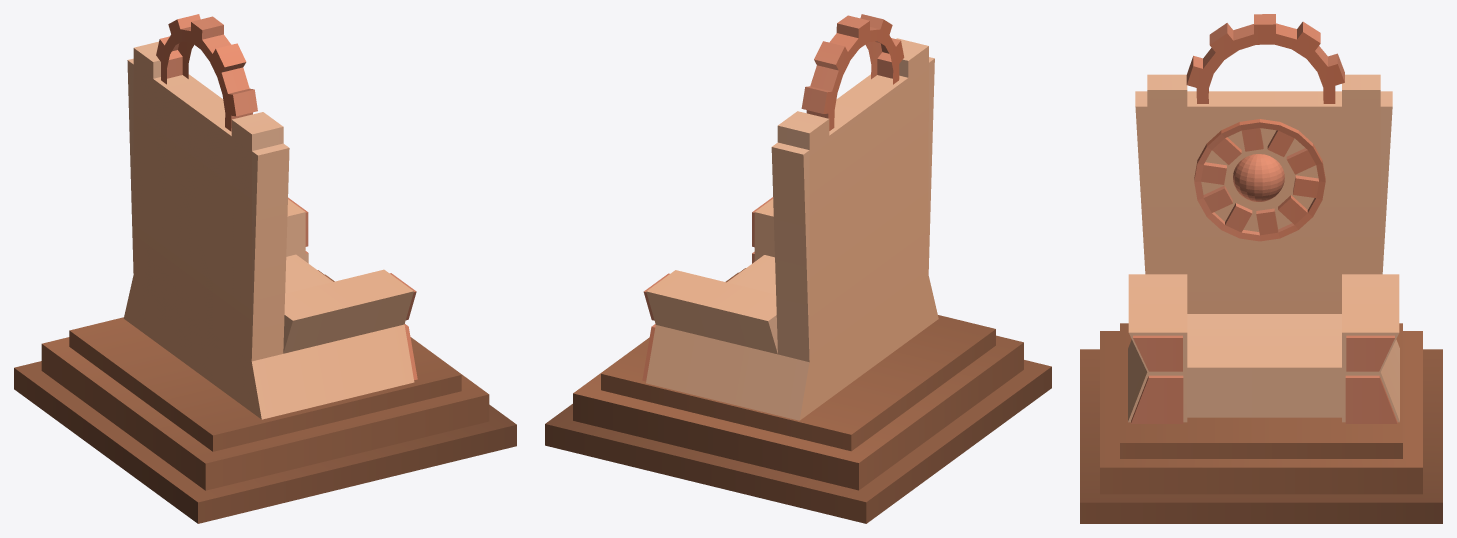
Rendered from Chair 02.fbx.
3 views of the same model, side by side, from view 1: azimuth 30°, elevation 25°; view 2: azimuth 150°, elevation 25°; view 3: azimuth 270°, elevation 25° (orthographic). The views are drawn at different scales.
Parts seen in each view (by area): view 1: defaultMaterial; view 2: defaultMaterial; view 3: defaultMaterial.
Part boxes in pixels (x1=…): defaultMaterial: x1=14, y1=14, x2=516, y2=523; defaultMaterial: x1=545, y1=14, x2=1051, y2=523; defaultMaterial: x1=1080, y1=14, x2=1442, y2=523.
Bounding box in the file's own units: 346 × 422 × 346.
Materials: 1 (1 with a texture image).
